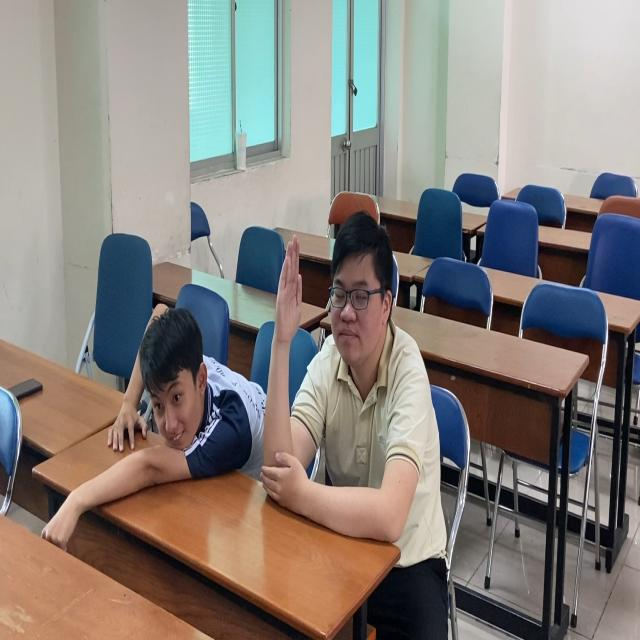raise_hand: (267, 194, 437, 541)
